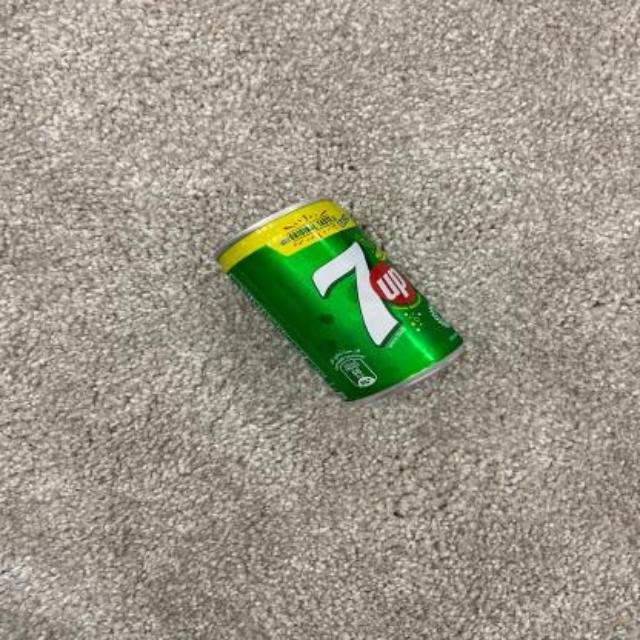metal: (215, 198, 460, 397)
